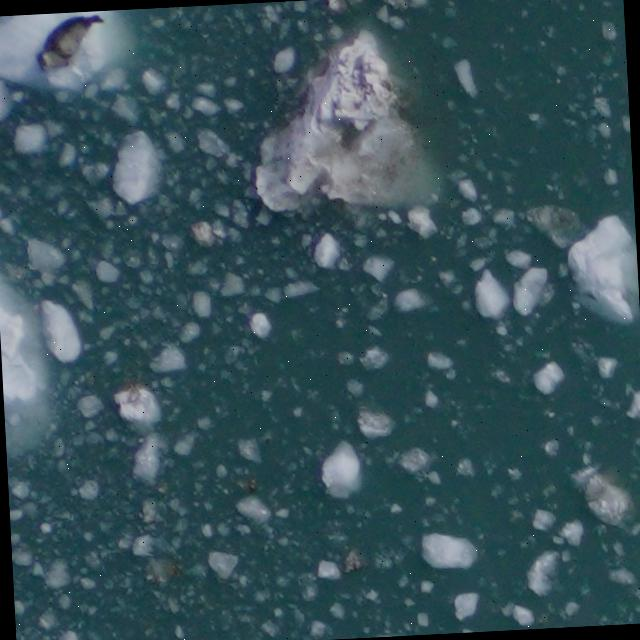seal: (33, 13, 111, 76)
